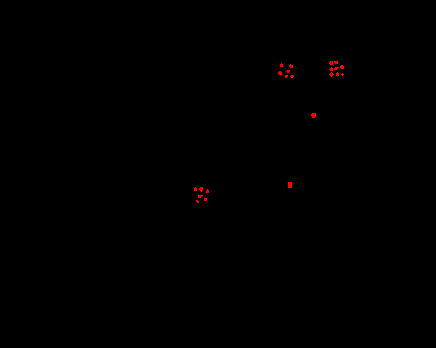Target: (329, 72, 334, 77), (311, 113, 316, 118), (288, 182, 292, 188), (199, 187, 203, 192), (329, 61, 333, 65), (289, 64, 293, 68), (340, 65, 344, 69), (329, 67, 333, 71), (278, 71, 282, 75), (334, 67, 339, 70), (198, 195, 203, 198), (334, 61, 338, 64), (280, 63, 283, 67), (286, 70, 290, 73), (336, 72, 339, 76), (290, 75, 294, 78), (194, 187, 197, 191), (206, 189, 209, 193), (341, 73, 344, 76), (285, 75, 288, 78), (204, 198, 207, 201), (196, 200, 199, 203)
